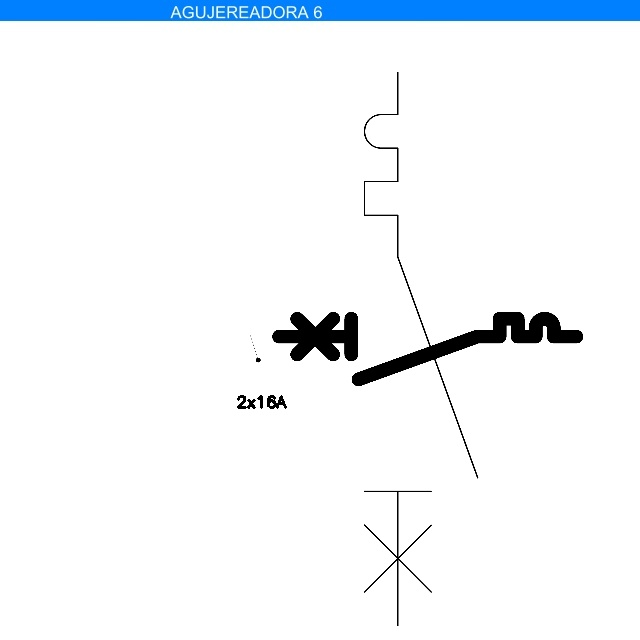interruptor_termomagnetico: (350, 58, 492, 640), (271, 311, 583, 387)
